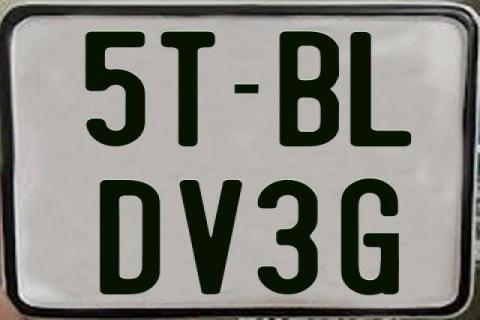0: (258, 180, 324, 295), (82, 29, 147, 144)
B: (278, 31, 342, 146)
D: (99, 178, 165, 296)
G: (340, 177, 404, 295)
L: (347, 31, 414, 147)
T: (160, 31, 214, 147)
V: (179, 177, 247, 297)
